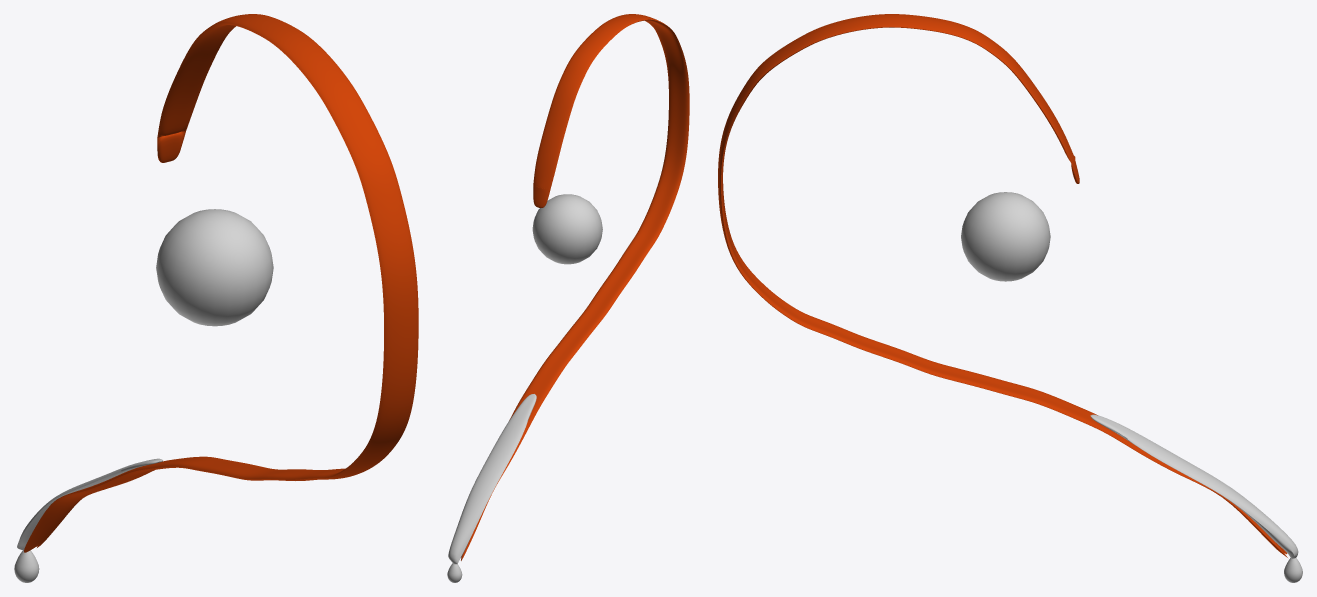
File: sul.obj
The picture shows the model from 3 angles, left to right: view 1: azimuth 30°, elevation 25°; view 2: azimuth 150°, elevation 25°; view 3: azimuth 270°, elevation 25°; orthographic projection. The views are drawn at different scales.
Parts seen in each view (by area): view 1: Sphere_2, Sphere_1, Sphere, Sphere.2; view 2: Sphere_2, Sphere_1, Sphere; view 3: Sphere_2, Sphere_1, Sphere.
Boxes of the visible parts, x1,y1,x2,y2 form: Sphere_2: (24, 14, 418, 552); Sphere_1: (156, 209, 273, 326); Sphere: (17, 458, 162, 550); Sphere.2: (14, 550, 39, 582); Sphere_2: (461, 14, 689, 560); Sphere_1: (532, 194, 602, 264); Sphere: (448, 394, 536, 564); Sphere_2: (718, 14, 1287, 557); Sphere_1: (961, 192, 1050, 281); Sphere: (1090, 414, 1298, 558).
Size of the model in its own units: 43.88 by 304 by 286.
